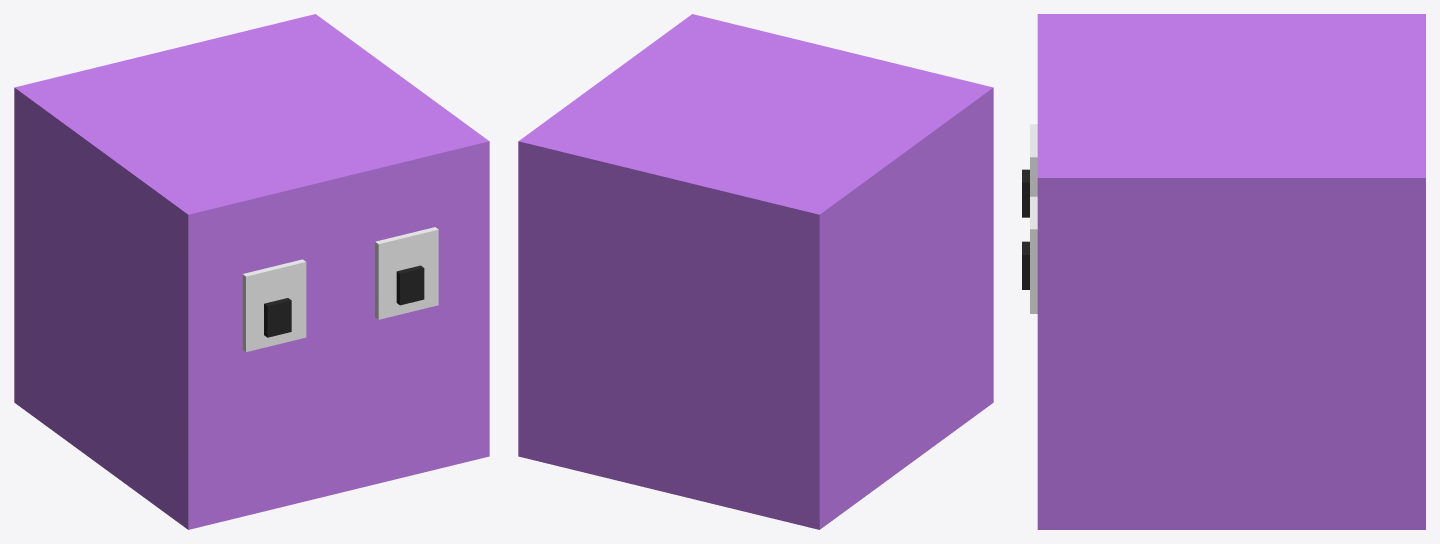
The model's file is lingo-2019.glb.
3 views of the same model, side by side, from view 1: azimuth 30°, elevation 25°; view 2: azimuth 150°, elevation 25°; view 3: azimuth 270°, elevation 25° (orthographic). The views are drawn at different scales.
Visible parts, largest first — view 1: Echo; view 2: Echo; view 3: Echo.
Part boxes in pixels (<box>): Echo: <box>14,14,489,529</box>; Echo: <box>518,14,993,529</box>; Echo: <box>1022,14,1425,529</box>.
Bounding box in the file's own units: 1 × 1 × 1.04.
